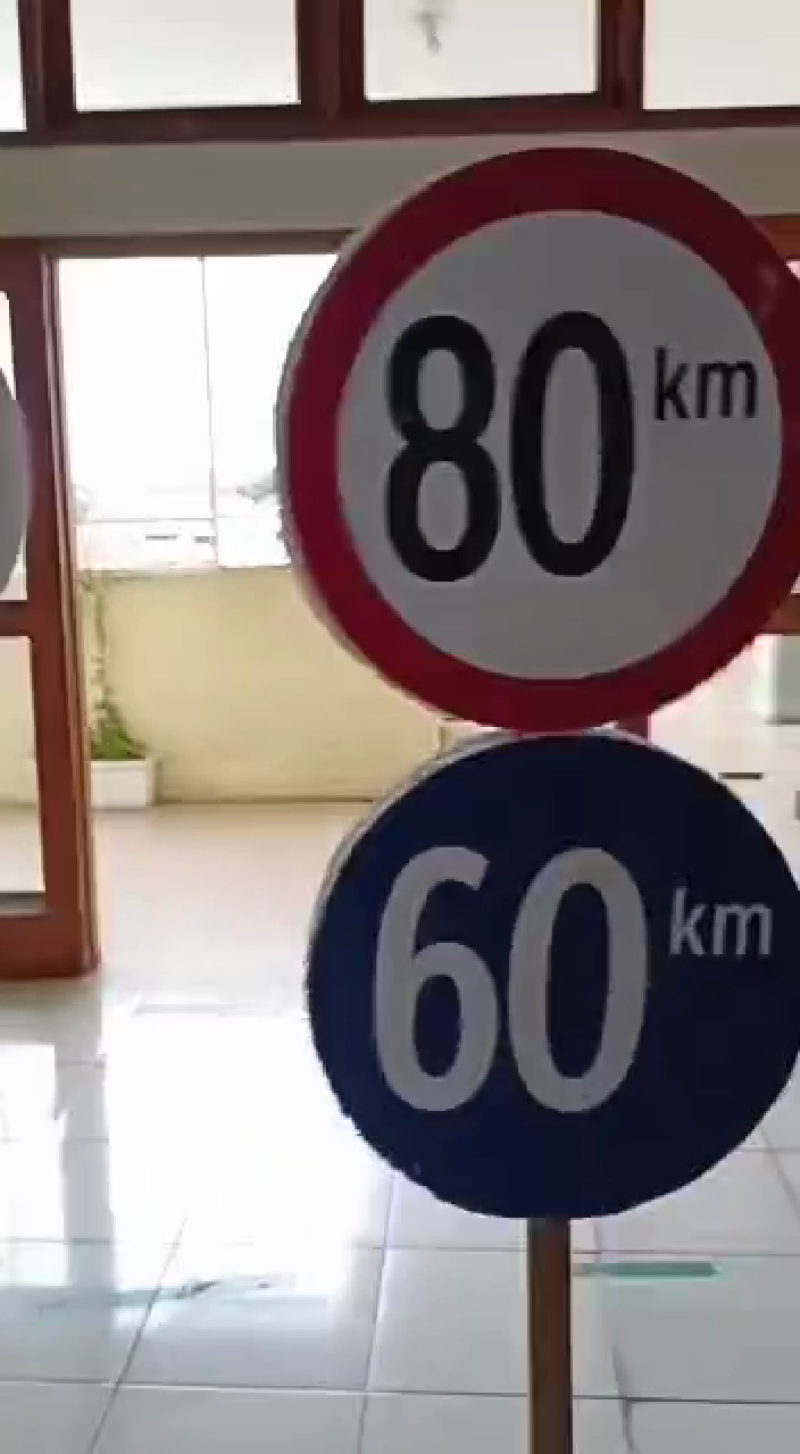batas maksimal 80kmperjam minimal 60kmperjam: (263, 133, 800, 1237)
